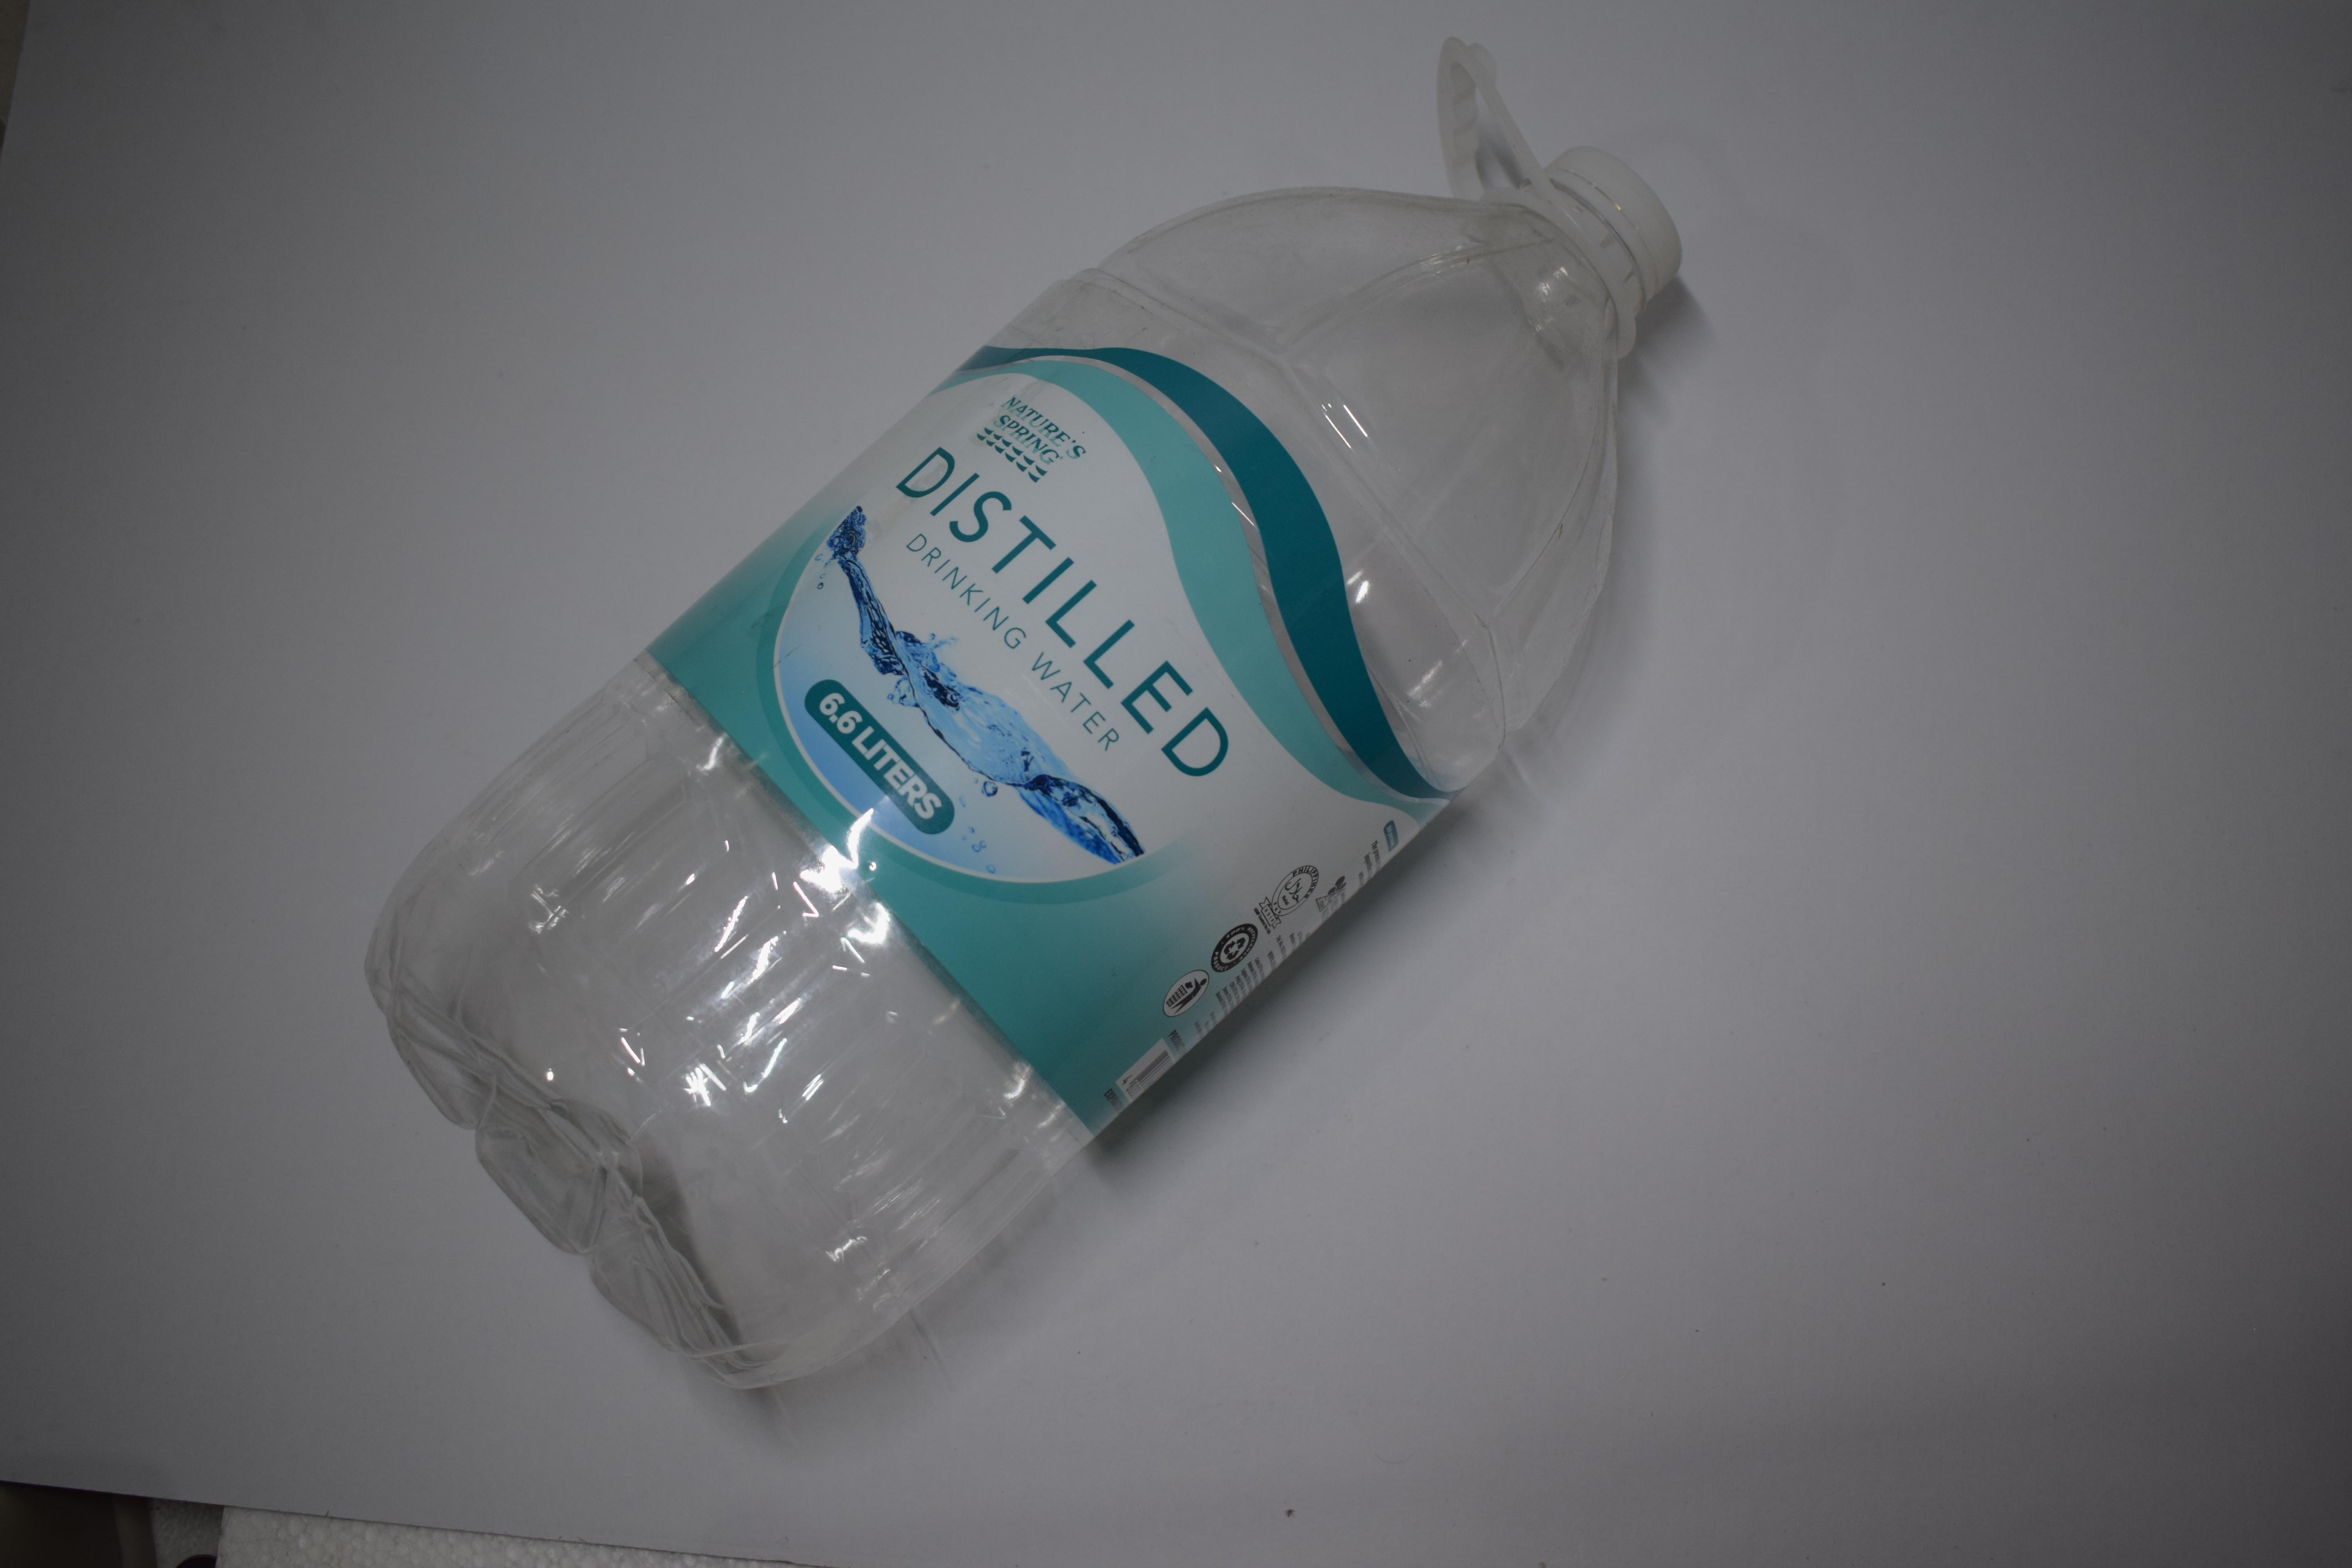bottle: (950, 0, 1092, 1318)
